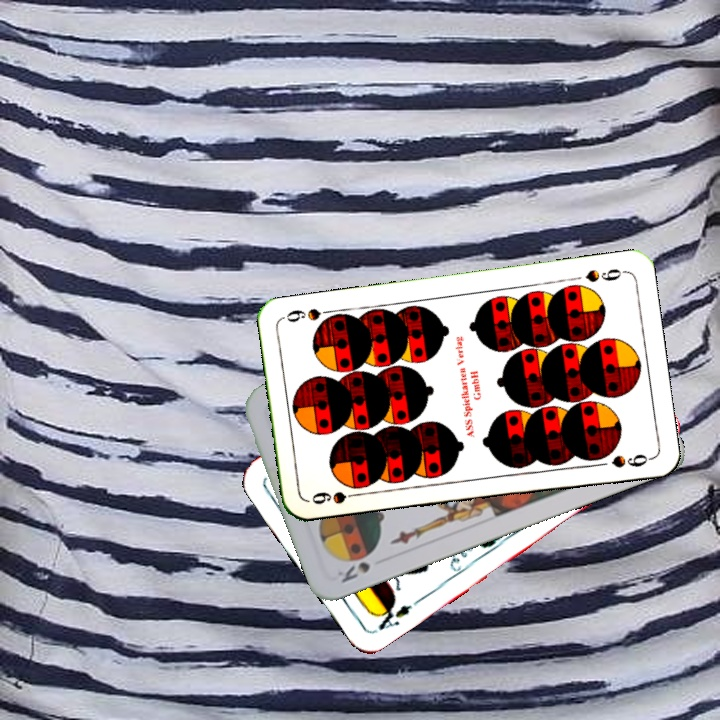EA: (370, 597, 415, 633)
S9: (308, 487, 366, 507), (581, 264, 628, 285)
SK: (333, 557, 373, 586)
